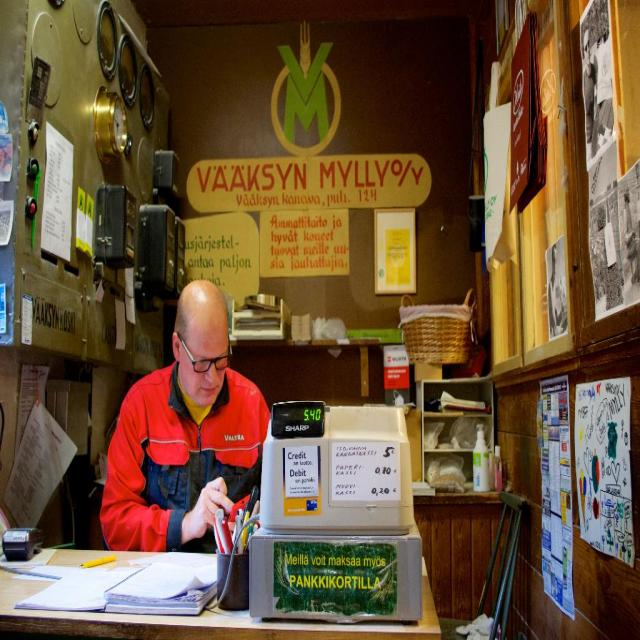desk: (5, 545, 437, 634)
person: (99, 277, 270, 554)
